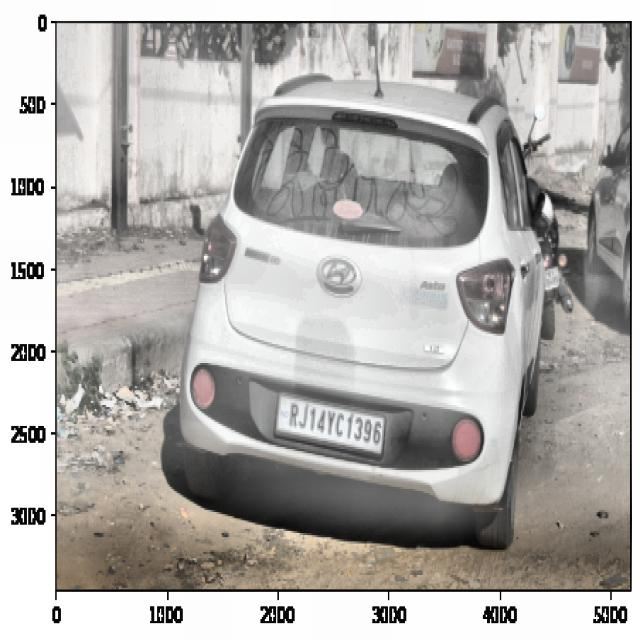license_plate: (286, 396, 384, 454)
